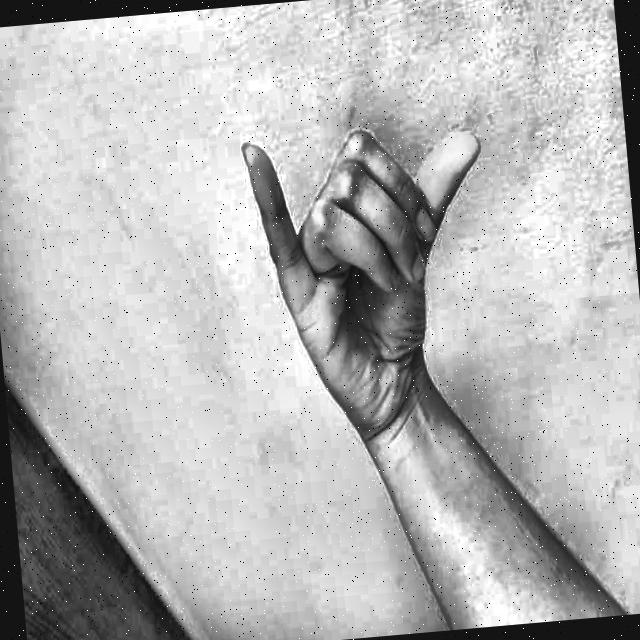Oi: (223, 74, 532, 468)
